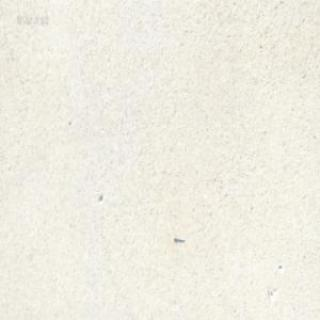Nailtrack_idkeyframe: (172, 234, 184, 242)
